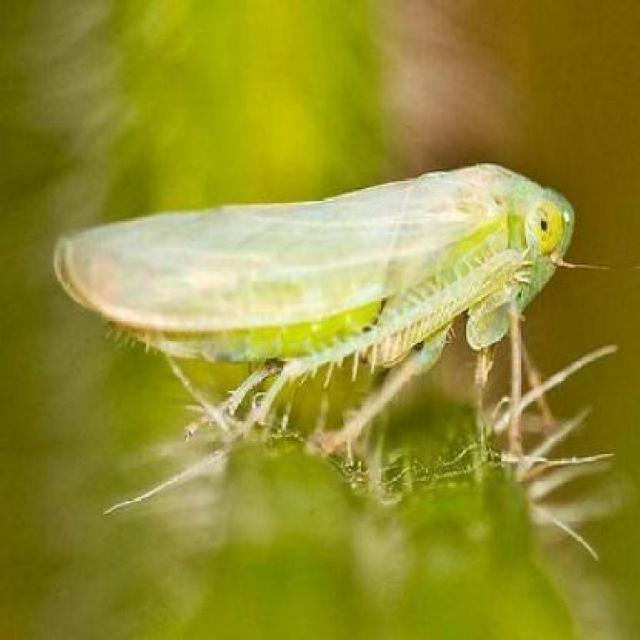green-leafhopper: (52, 163, 582, 429)
